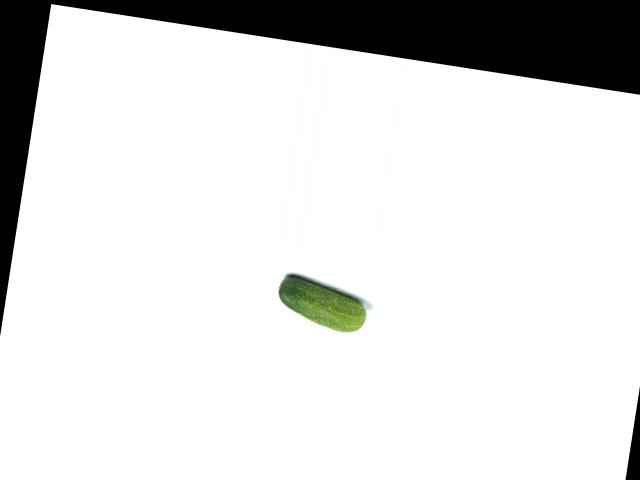cucumber: (274, 273, 370, 334)
